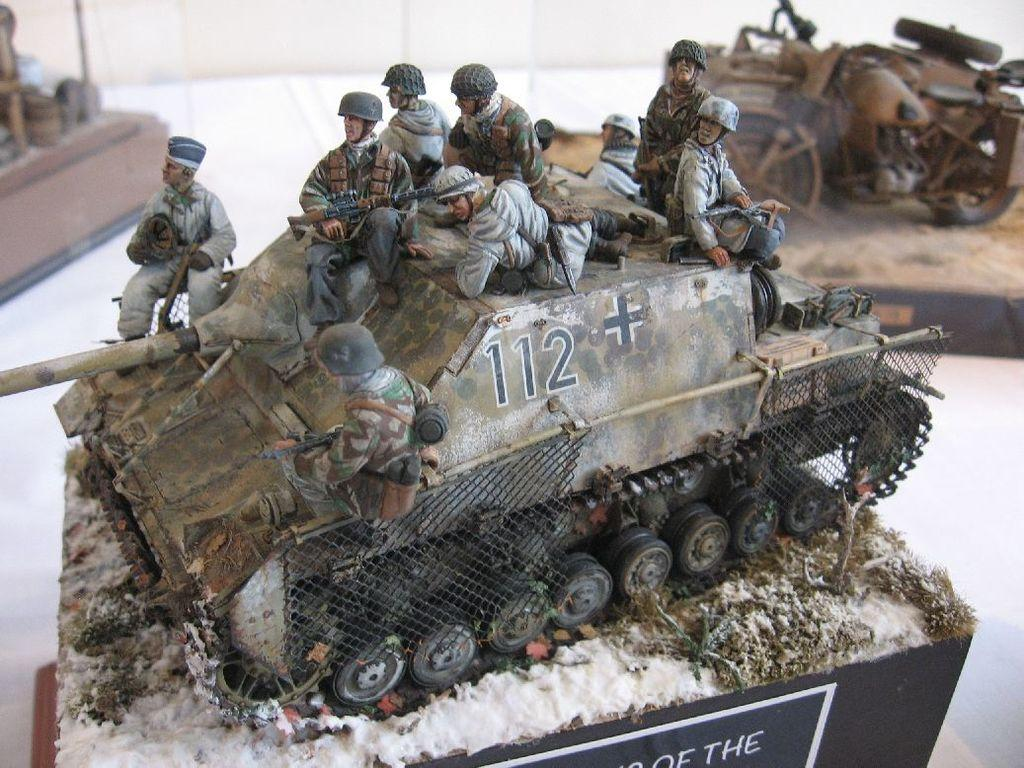Tank: (0, 157, 953, 727)
